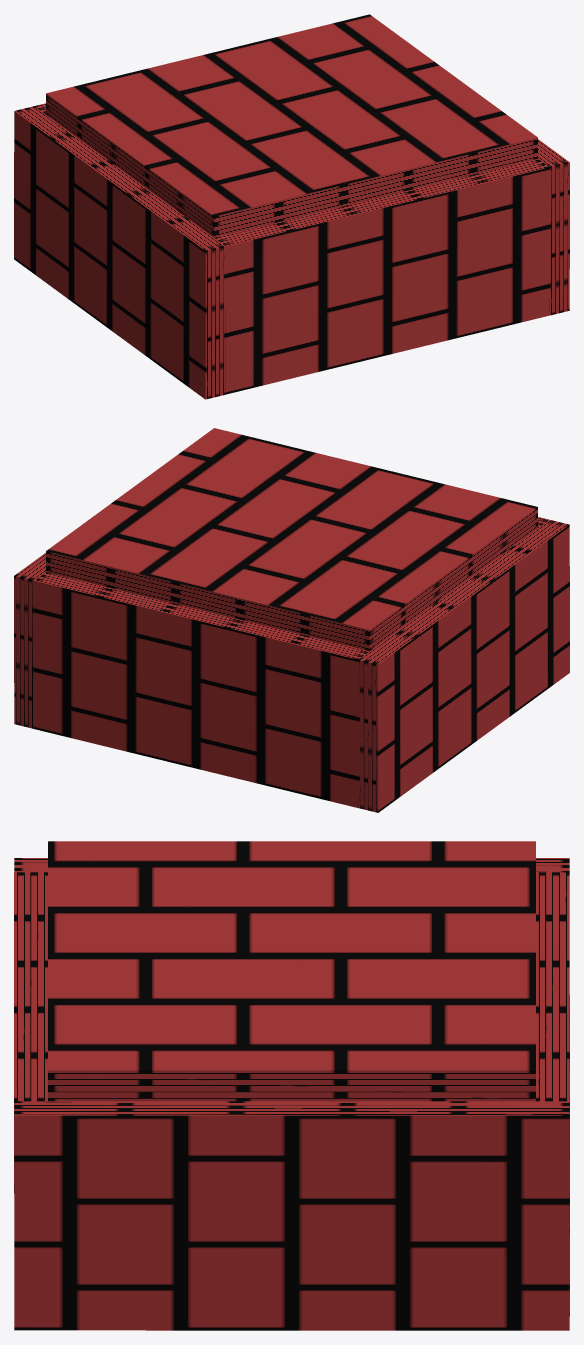
The model's file is stage.fbx.
3 views of the same model, one above another, from view 1: azimuth 30°, elevation 25°; view 2: azimuth 150°, elevation 25°; view 3: azimuth 270°, elevation 25° (orthographic). The views are drawn at different scales.
Visible parts, largest first — view 1: Cube.006, Cube.003, Cube.004, Cube.005; view 2: Cube.006, Cube.002, Cube.004, Cube.005; view 3: Cube.005, Cube.006, Cube.002, Cube.003, Cube.004.
Part boxes in pixels (<box>): Cube.006: <box>46,14,537,237</box>; Cube.003: <box>214,159,549,394</box>; Cube.004: <box>14,106,225,399</box>; Cube.005: <box>538,139,569,315</box>; Cube.006: <box>46,428,537,650</box>; Cube.002: <box>34,572,369,807</box>; Cube.004: <box>358,519,569,812</box>; Cube.005: <box>14,553,45,728</box>; Cube.005: <box>14,1101,569,1330</box>; Cube.006: <box>48,841,535,1101</box>; Cube.002: <box>536,872,569,1315</box>; Cube.003: <box>14,872,47,1193</box>; Cube.004: <box>14,858,569,872</box>.
Size of the model in its own units: 180 by 80.06 by 164.
1 material, 1 textured.
